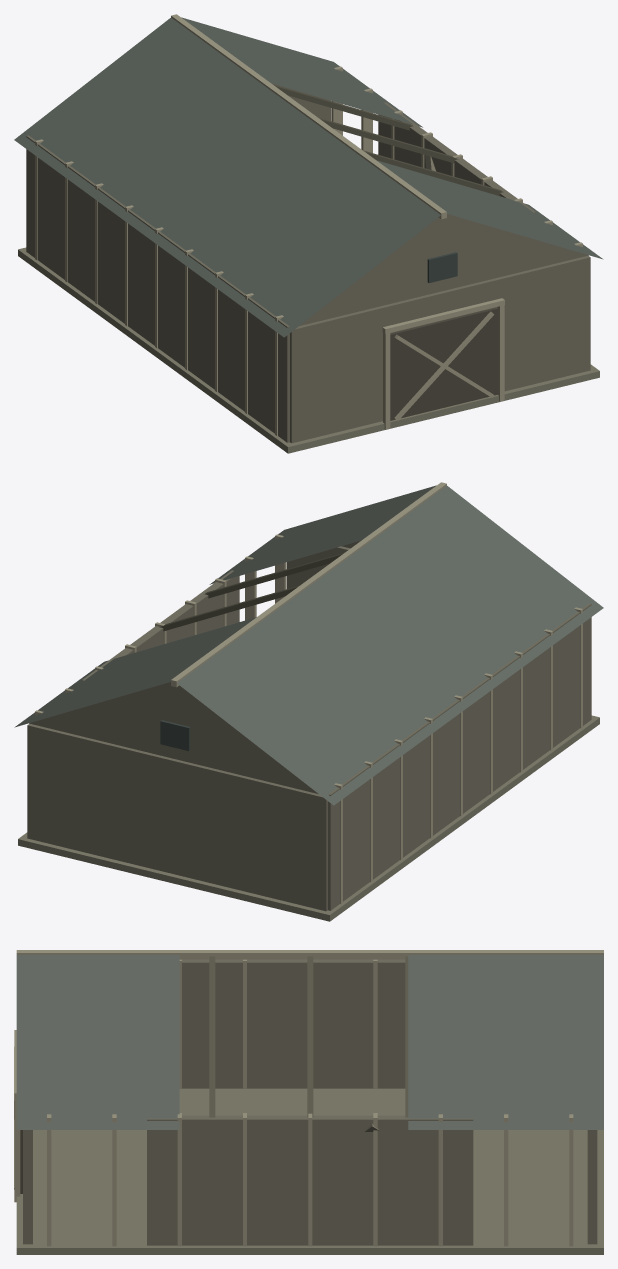
File: barn-abandoned.glb
3 renders of one model, top to bottom at view 1: azimuth 30°, elevation 25°; view 2: azimuth 150°, elevation 25°; view 3: azimuth 270°, elevation 25°, orthographic. The views are drawn at different scales.
Parts seen in each view (by area): view 1: barn-abandoned; view 2: barn-abandoned; view 3: barn-abandoned.
Part boxes in pixels (x1=…): barn-abandoned: x1=14, y1=14, x2=603, y2=453; barn-abandoned: x1=14, y1=482, x2=603, y2=921; barn-abandoned: x1=14, y1=950, x2=603, y2=1254.
Size of the model in its own units: 12.3 by 7.46 by 18.08.
